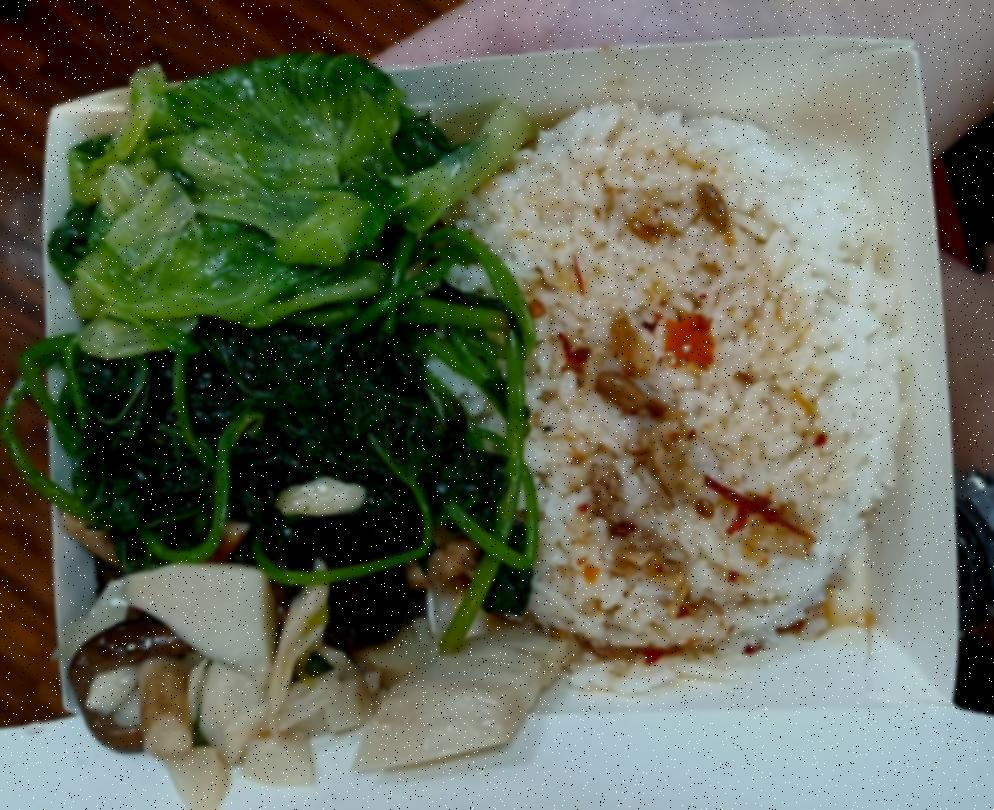box: (14, 32, 987, 746)
side dish: (62, 537, 559, 777), (70, 96, 502, 342), (49, 320, 514, 538)
white rice: (418, 104, 889, 650)
